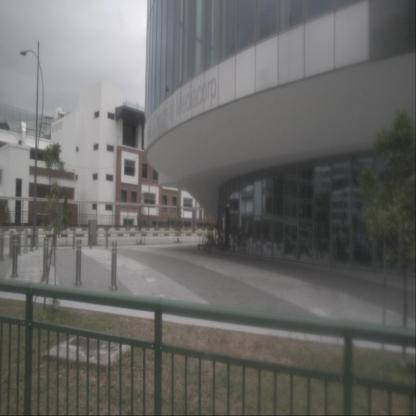vehicle-bicycle: (203, 225, 226, 252), (202, 226, 222, 252)
